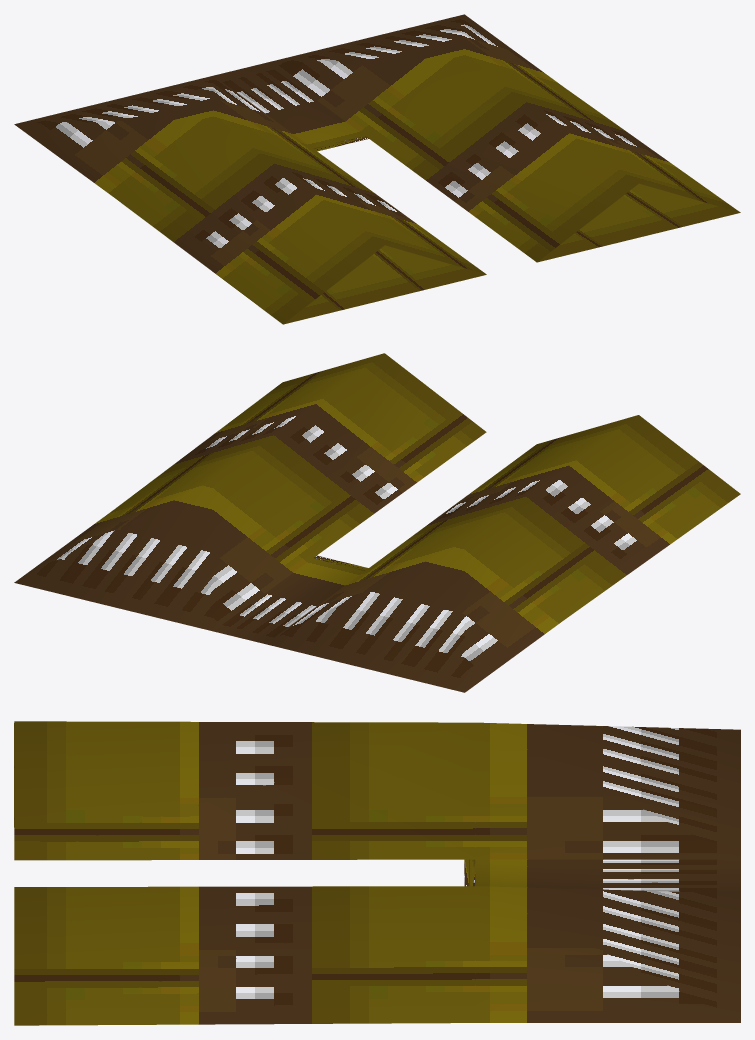
File: 2153pants000_c.gltf
The picture shows the model from 3 angles, top to bottom: view 1: azimuth 30°, elevation 25°; view 2: azimuth 150°, elevation 25°; view 3: azimuth 270°, elevation 25°; orthographic projection. The views are drawn at different scales.
Visible parts, largest first — view 1: 2153pants000_c; view 2: 2153pants000_c; view 3: 2153pants000_c.
Part boxes in pixels (x1,y1,x2,y2): 2153pants000_c: (14,14,740,324); 2153pants000_c: (14,353,740,692); 2153pants000_c: (14,721,740,1025).
Size of the model in its own units: 0.7793 by 0.0884 by 0.803.
Materials: 1 (1 with a texture image).
